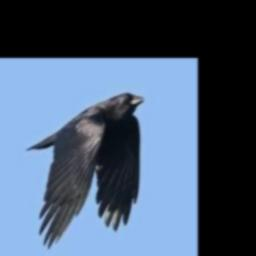Crow: (26, 90, 144, 250)
